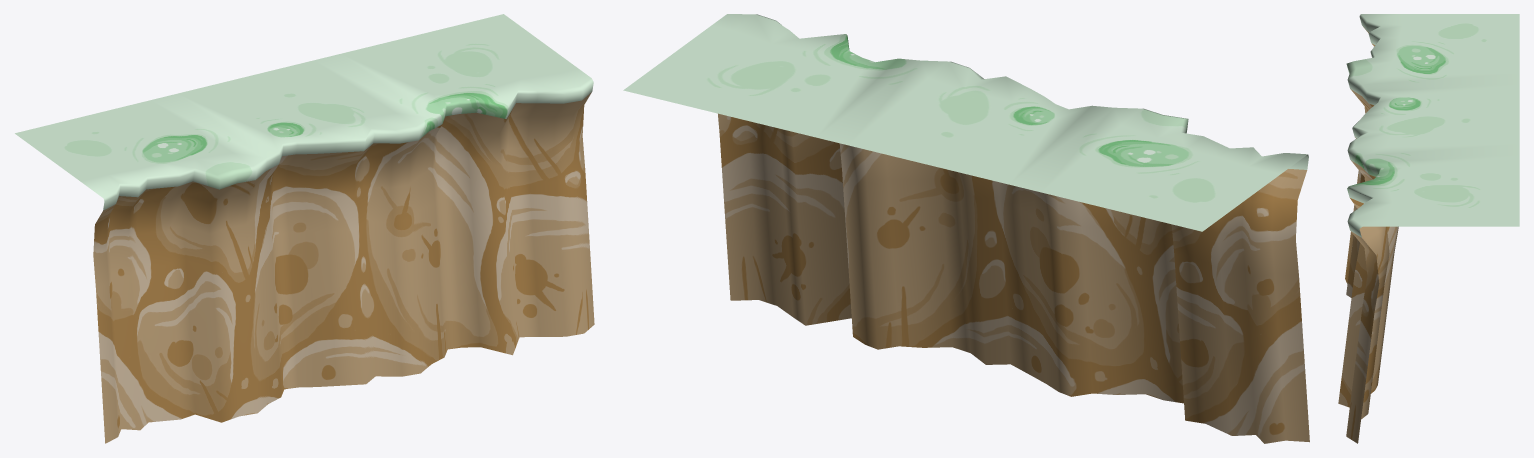
The model's file is SM_environment_long_mar30.fbx.
3 views of the same model, side by side, from view 1: azimuth 30°, elevation 25°; view 2: azimuth 150°, elevation 25°; view 3: azimuth 270°, elevation 25° (orthographic). The views are drawn at different scales.
Parts seen in each view (by area): view 1: SM_tile_long; view 2: SM_tile_long; view 3: SM_tile_long.
Boxes of the visible parts, x1=… form: SM_tile_long: x1=15, y1=14, x2=594, y2=443; SM_tile_long: x1=623, y1=14, x2=1309, y2=443; SM_tile_long: x1=1338, y1=14, x2=1519, y2=443.
Bounding box in the file's own units: 3654 × 1743 × 1318.
